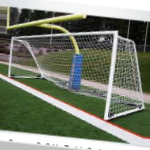goals: (8, 31, 145, 121)
